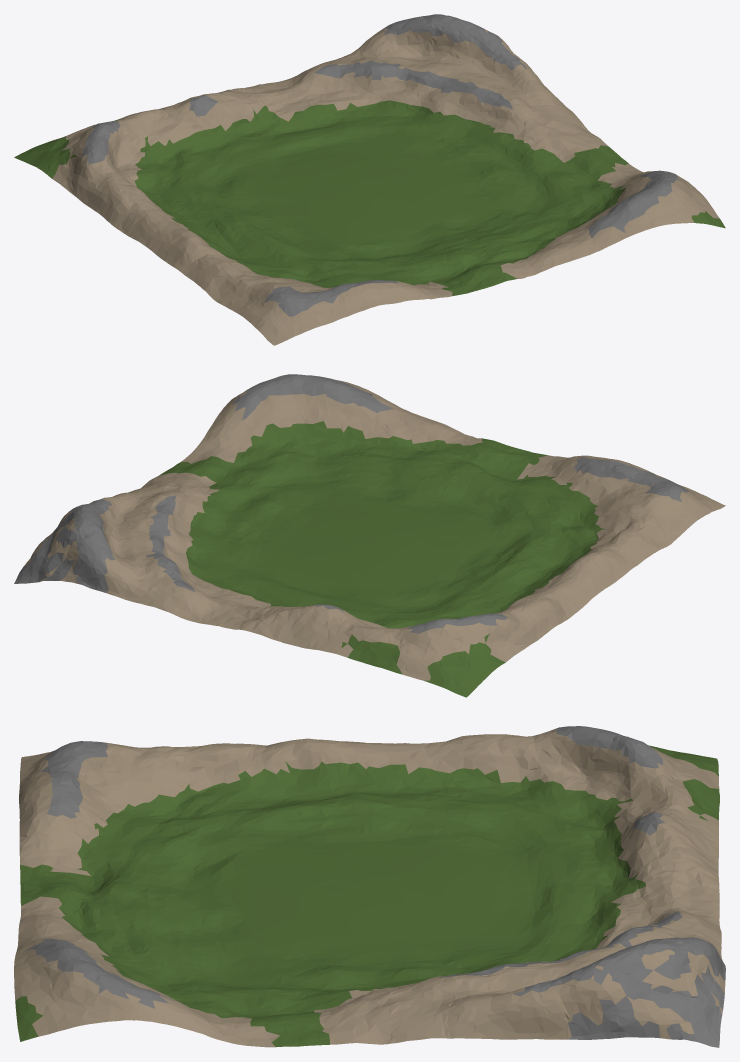
The model's file is TerrainTris.fbx.
3 renders of one model, top to bottom at view 1: azimuth 30°, elevation 25°; view 2: azimuth 150°, elevation 25°; view 3: azimuth 270°, elevation 25°, orthographic. The views are drawn at different scales.
Parts seen in each view (by area): view 1: Terrain; view 2: Terrain; view 3: Terrain.
Boxes of the visible parts, <box> form: Terrain: <box>14,14,725,345</box>; Terrain: <box>14,374,725,697</box>; Terrain: <box>14,726,725,1047</box>.
Size of the model in its own units: 50.72 by 6.36 by 51.1.
